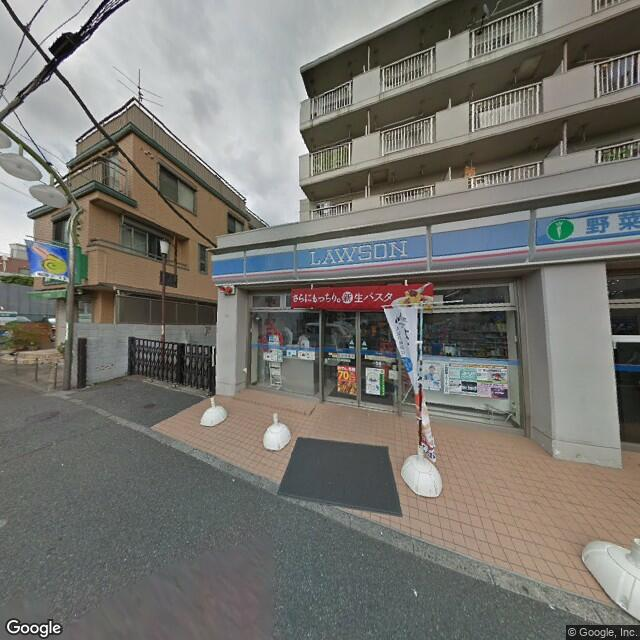lawson: (213, 197, 638, 286)
